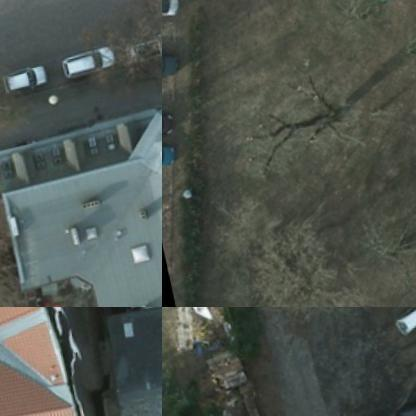car: (56, 43, 112, 82), (119, 23, 161, 68), (0, 62, 45, 100), (384, 307, 415, 344), (162, 36, 177, 81), (384, 398, 415, 415), (162, 98, 172, 141), (162, 134, 171, 168)
